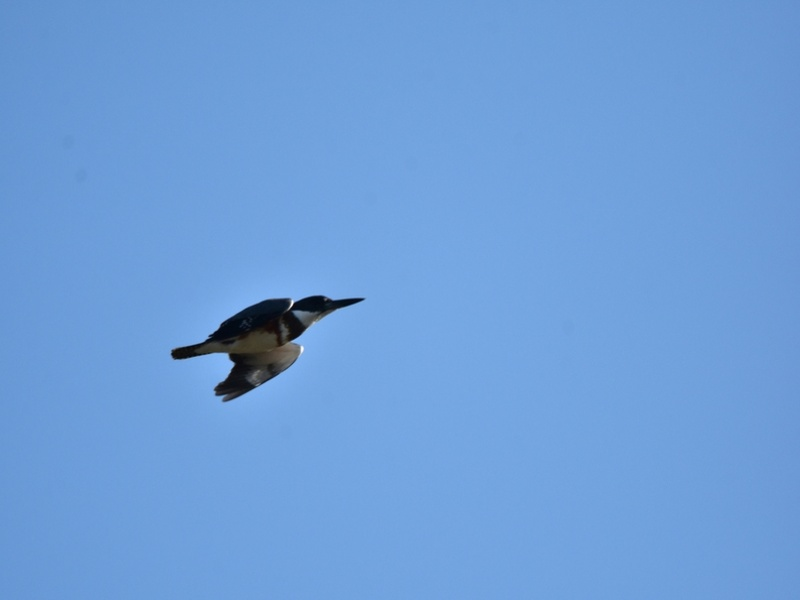kingfisher: (160, 287, 371, 407)
